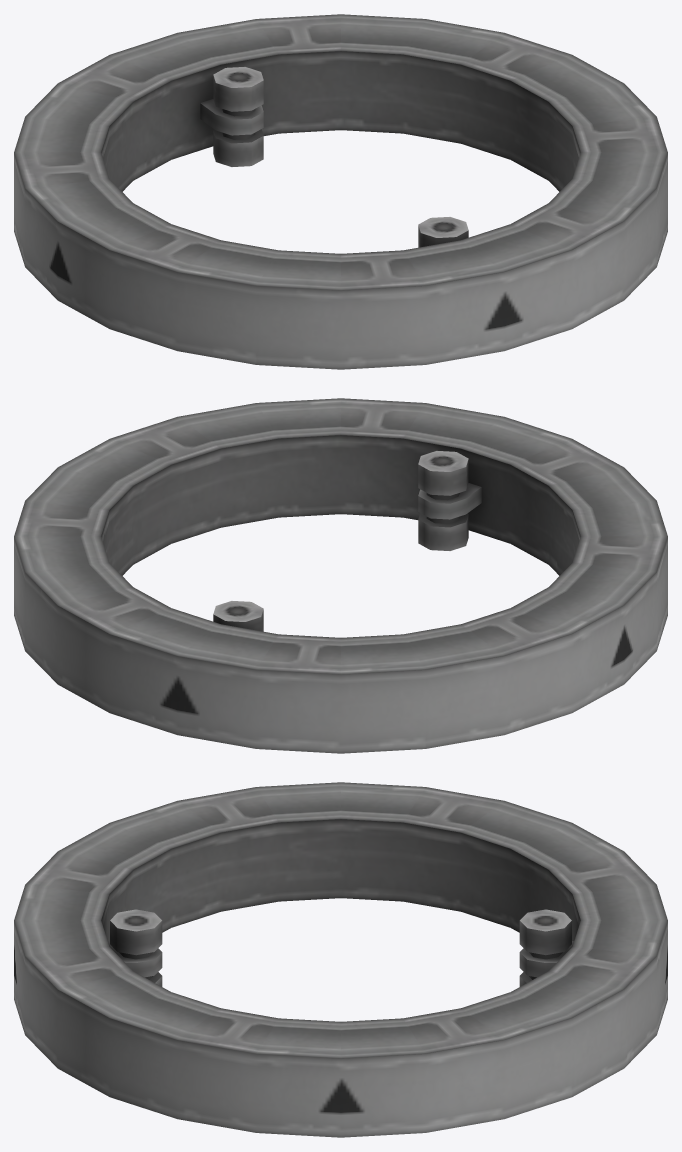
The model's file is castor_decoupler_s0p5_1.obj.
3 renders of one model, top to bottom at view 1: azimuth 30°, elevation 25°; view 2: azimuth 150°, elevation 25°; view 3: azimuth 270°, elevation 25°, orthographic.
Visible parts, largest first — view 1: mesh1; view 2: mesh1; view 3: mesh1.
Part boxes in pixels (x1,y1,x2,y2): mesh1: (14,14,667,369); mesh1: (14,398,667,753); mesh1: (14,782,667,1137).
Bounding box in the file's own units: 0.9375 × 0.125 × 0.9375.
1 material, 1 textured.
